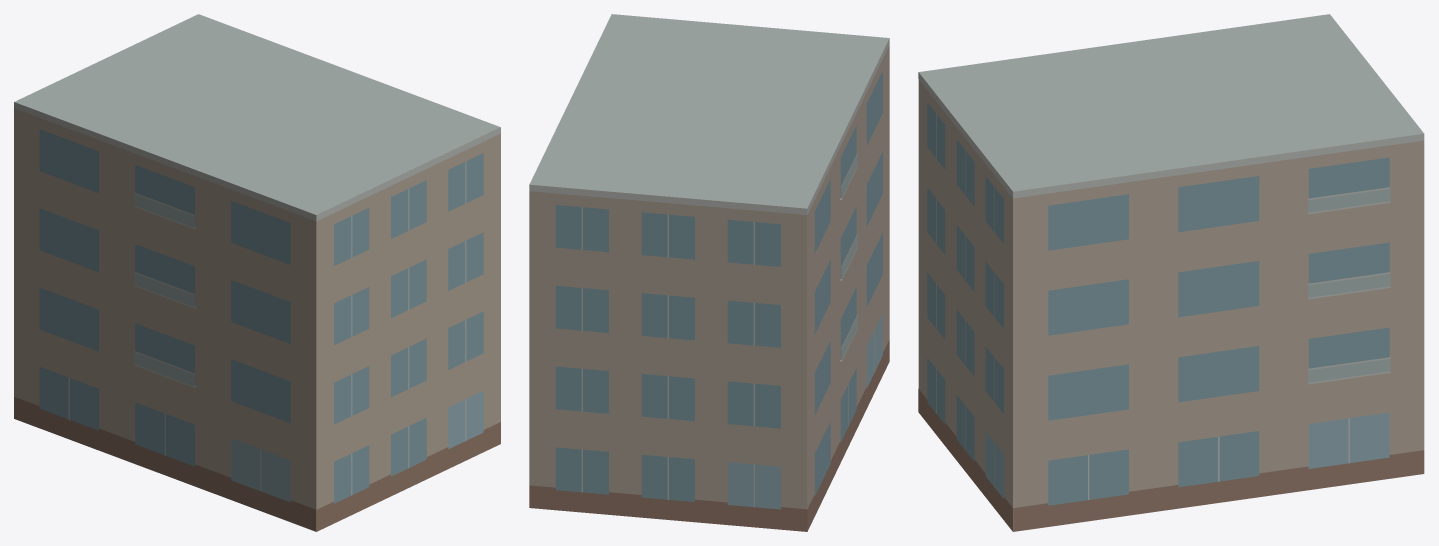
The model's file is residential-339dc0b3-8d67-49f6-9835-05ab5d78be3e.glb.
3 renders of one model, left to right at view 1: azimuth 30°, elevation 25°; view 2: azimuth 150°, elevation 25°; view 3: azimuth 270°, elevation 25°, orthographic. The views are drawn at different scales.
Parts seen in each view (by area): view 1: residential-339dc0b3-8d67-49f6-9835-05ab5d78be3e.tmp; view 2: residential-339dc0b3-8d67-49f6-9835-05ab5d78be3e.tmp; view 3: residential-339dc0b3-8d67-49f6-9835-05ab5d78be3e.tmp.
Part boxes in pixels (<box>): residential-339dc0b3-8d67-49f6-9835-05ab5d78be3e.tmp: <box>14,14,500,531</box>; residential-339dc0b3-8d67-49f6-9835-05ab5d78be3e.tmp: <box>529,14,889,531</box>; residential-339dc0b3-8d67-49f6-9835-05ab5d78be3e.tmp: <box>918,14,1424,531</box>.
Bounding box in the file's own units: 13.68 × 12.2 × 16.45.
